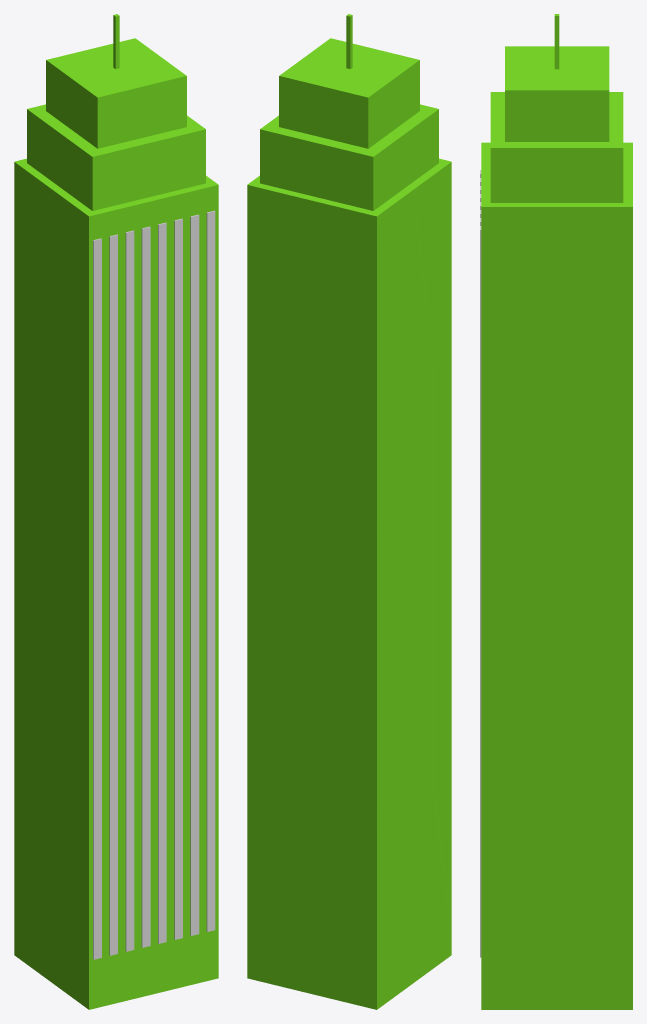
File: predio5.fbx
3 views of the same model, side by side, from view 1: azimuth 30°, elevation 25°; view 2: azimuth 150°, elevation 25°; view 3: azimuth 270°, elevation 25° (orthographic).
Parts seen in each view (by area): view 1: Cube; view 2: Cube; view 3: Cube.
Boxes of the visible parts, x1,y1,x2,y2 form: Cube: [14, 14, 218, 1009]; Cube: [247, 14, 451, 1009]; Cube: [480, 14, 632, 1009].
Bounding box in the file's own units: 261 × 1829 × 263.
